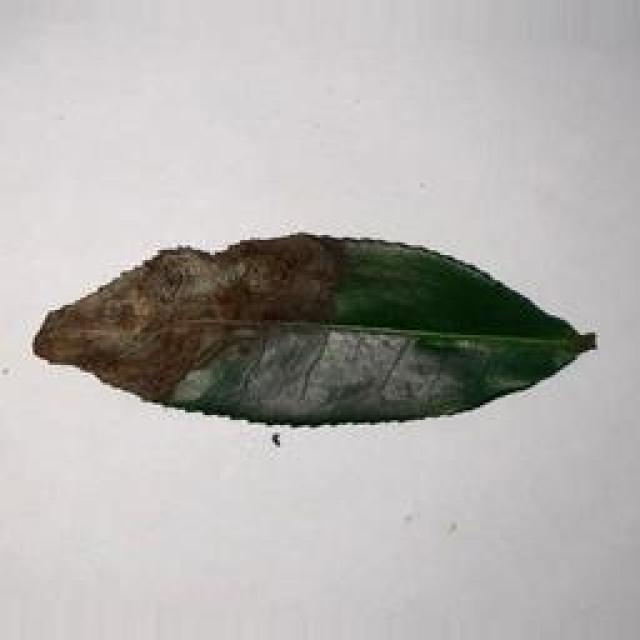Brown Blight: (31, 212, 606, 442)
